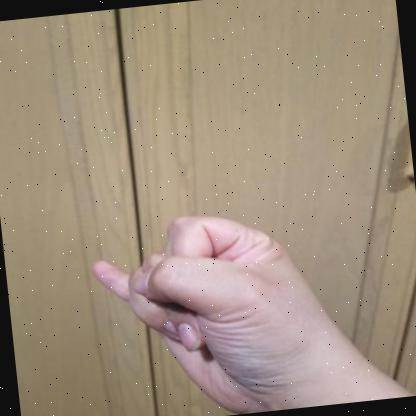J: (91, 215, 355, 414)
